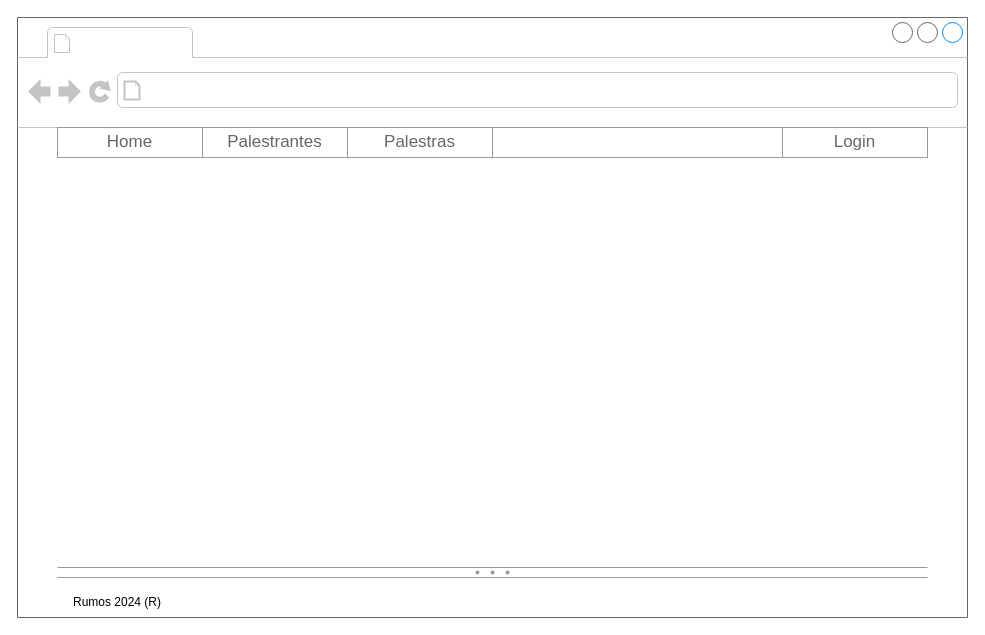
Some shapes in this 985 by 635 pixel diagram are drawn without their labels. Here are the shapes that lost their labels. From the top down, the centre of each, then its label:
At (x=132, y=42): "Page 1".
At (x=272, y=90): "https://www.draw.io".
